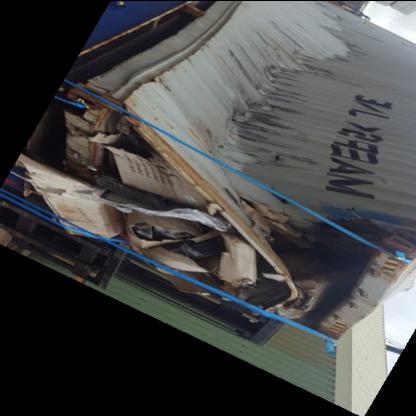Damage: (37, 12, 411, 346)
